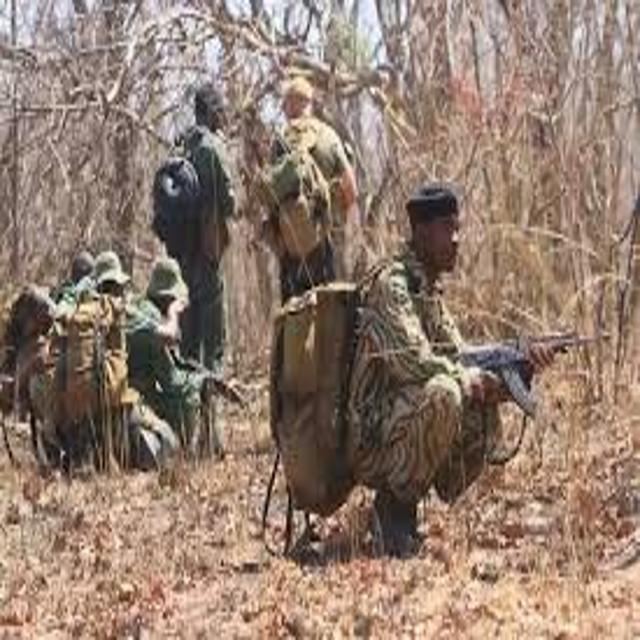backpack: (242, 254, 393, 558), (229, 105, 360, 276), (45, 280, 161, 454), (125, 132, 231, 284)
gun: (400, 301, 634, 433)
poacher: (252, 167, 574, 582), (123, 60, 292, 474), (44, 232, 206, 519), (227, 57, 377, 334), (101, 244, 261, 495), (2, 239, 124, 504)
